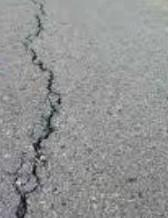crack: (9, 0, 66, 218)
